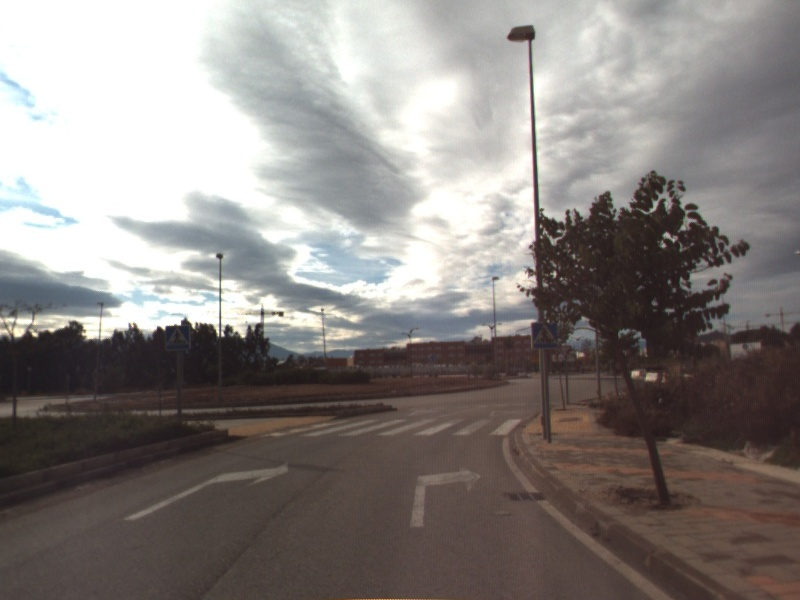RIGHT: (122, 459, 290, 522), (408, 462, 484, 530)
